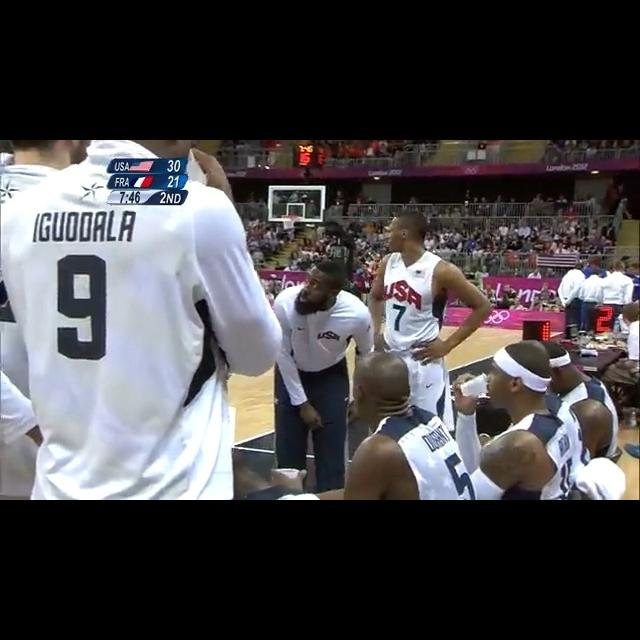hoop: (281, 212, 298, 231)
